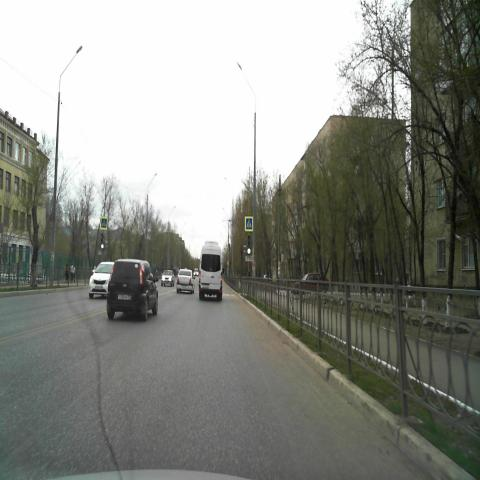5_19_1: (245, 216, 253, 232), (100, 218, 107, 230)
